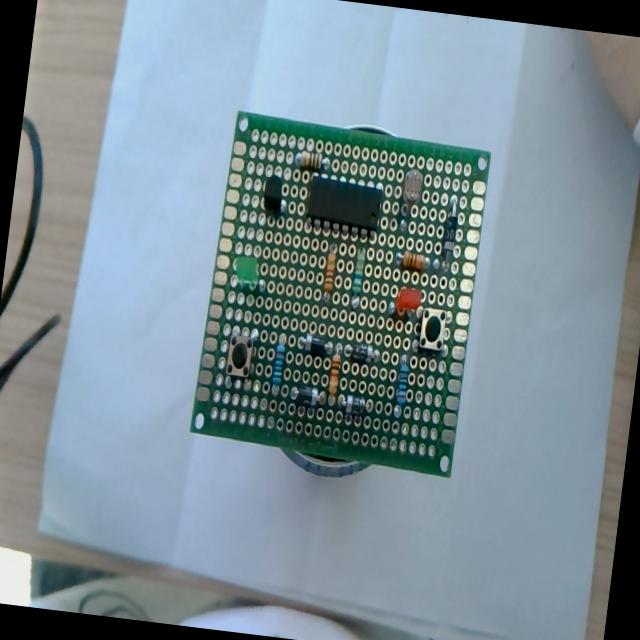IC: (302, 172, 386, 238)
cds: (395, 168, 426, 228)
diode: (336, 392, 371, 422), (441, 202, 458, 260), (344, 340, 380, 366), (290, 384, 322, 413), (298, 332, 331, 359)
led: (228, 254, 266, 300), (392, 285, 423, 320)
resistor: (351, 238, 368, 298), (394, 356, 410, 406), (271, 341, 286, 387), (323, 246, 338, 292), (328, 352, 342, 397), (400, 250, 426, 274), (296, 150, 322, 172)
switch: (224, 328, 258, 391), (418, 308, 447, 352)
transistor: (255, 170, 289, 220)
